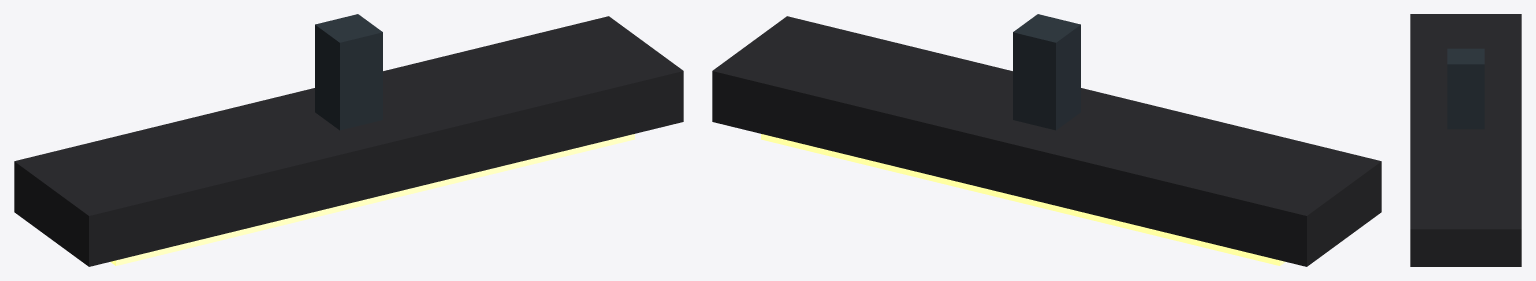
File: lamp-bar.glb
3 views of the same model, side by side, from view 1: azimuth 30°, elevation 25°; view 2: azimuth 150°, elevation 25°; view 3: azimuth 270°, elevation 25° (orthographic). The views are drawn at different scales.
Visible parts, largest first — view 1: lamp-bar; view 2: lamp-bar; view 3: lamp-bar.
Part boxes in pixels (x1=…): lamp-bar: x1=14, y1=14, x2=683, y2=266; lamp-bar: x1=712, y1=14, x2=1381, y2=266; lamp-bar: x1=1410, y1=14, x2=1521, y2=266.
Size of the model in its own units: 0.55 by 0.137 by 0.12.
